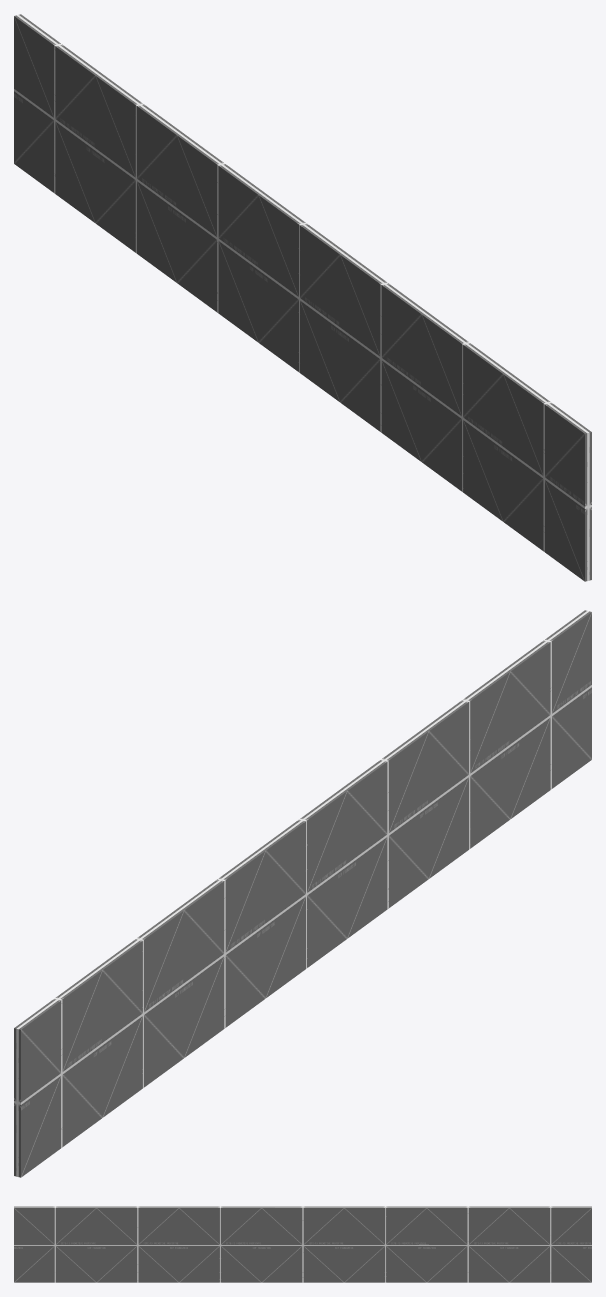
Rendered from IO-Plate-Base.obj.
3 views of the same model, one above another, from view 1: azimuth 30°, elevation 25°; view 2: azimuth 150°, elevation 25°; view 3: azimuth 270°, elevation 25° (orthographic). The views are drawn at different scales.
Parts seen in each view (by area): view 1: IO-Plate-Base; view 2: IO-Plate-Base; view 3: IO-Plate-Base.
Part boxes in pixels (left/top/right/bottom): IO-Plate-Base: left=14, top=14, right=591, bottom=581; IO-Plate-Base: left=14, top=610, right=591, bottom=1177; IO-Plate-Base: left=14, top=1206, right=591, bottom=1282.
Size of the model in its own units: 0.05 by 1 by 7.
